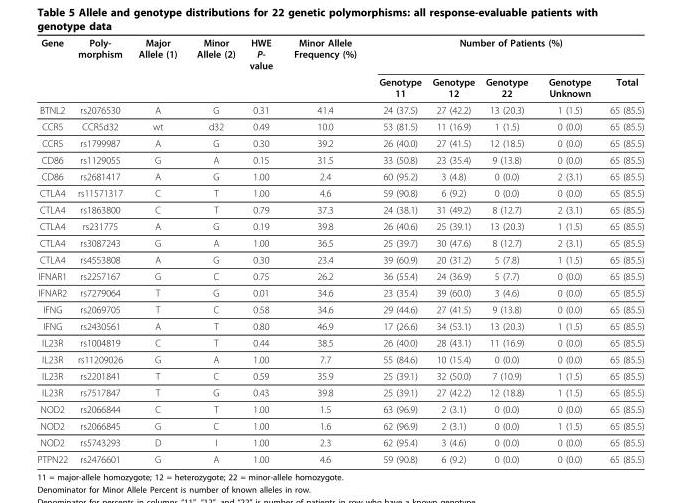table: (36, 36, 643, 464)
table column: (282, 36, 367, 464), (537, 36, 599, 464), (367, 36, 426, 464), (71, 36, 129, 464), (479, 36, 537, 464), (129, 36, 186, 464), (186, 36, 241, 464), (426, 36, 479, 464), (599, 36, 643, 464), (241, 36, 282, 464), (36, 36, 71, 464)
table column header: (36, 36, 643, 101)
table row: (36, 36, 643, 73), (36, 73, 643, 101), (36, 117, 643, 134), (36, 134, 643, 151), (36, 167, 643, 184), (36, 184, 643, 201), (36, 217, 643, 234), (36, 250, 643, 267), (36, 267, 643, 284), (36, 300, 643, 317), (36, 317, 643, 334), (36, 350, 643, 367), (36, 367, 643, 384), (36, 400, 643, 417), (36, 433, 643, 450), (36, 101, 643, 117), (36, 151, 643, 167), (36, 201, 643, 217), (36, 234, 643, 250), (36, 284, 643, 300), (36, 334, 643, 350), (36, 384, 643, 400), (36, 417, 643, 433), (36, 450, 643, 464)
table spanning cell: (367, 36, 643, 73), (282, 36, 367, 101), (71, 36, 129, 101), (129, 36, 186, 101), (186, 36, 241, 101), (241, 36, 282, 101), (36, 36, 71, 101)
